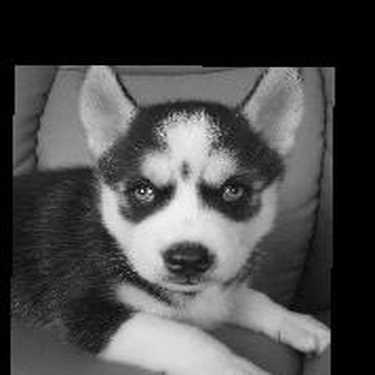dog: (13, 61, 330, 373)
